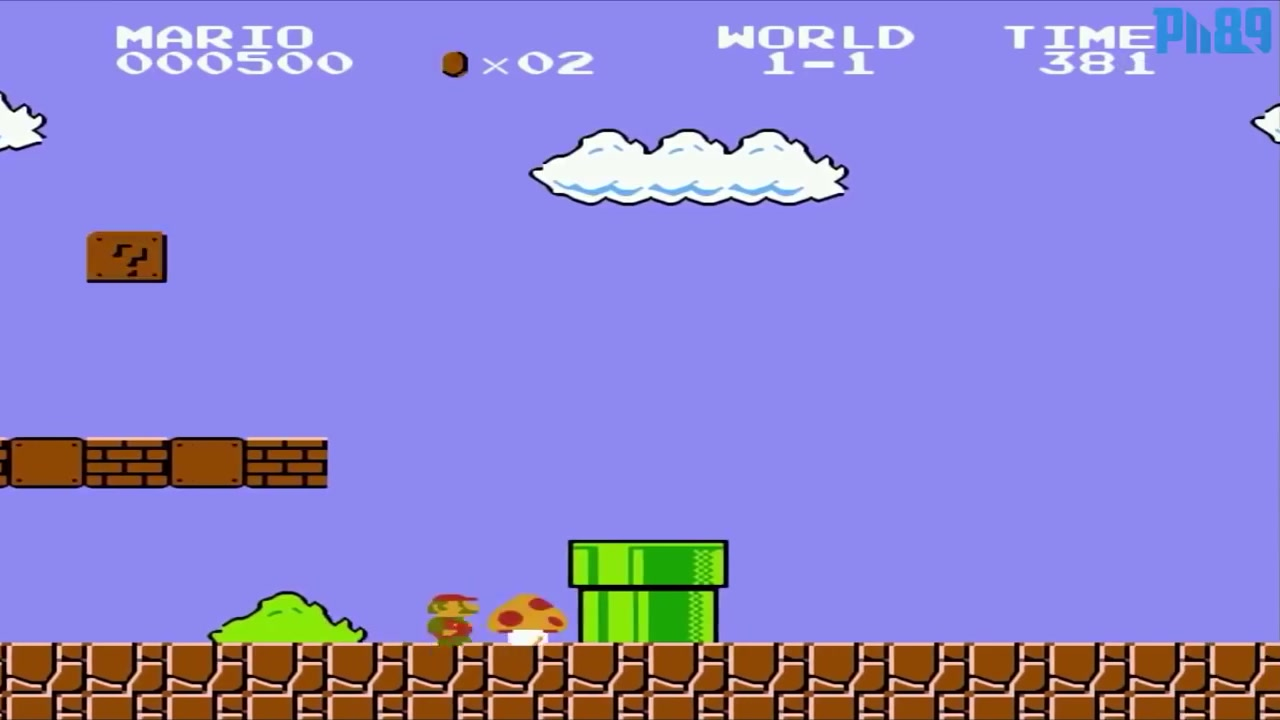mario: (418, 589, 482, 640)
